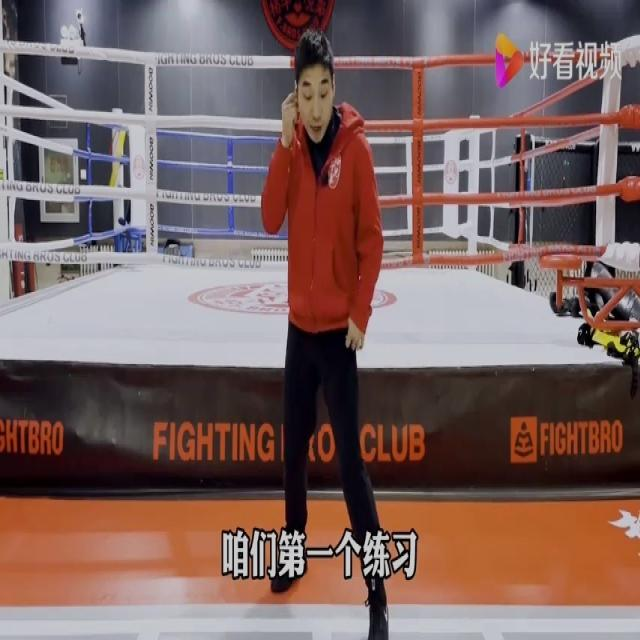non-fight: (260, 28, 387, 640)
